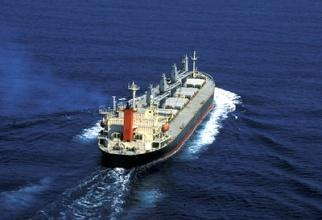Cargoship: (95, 45, 215, 163)
